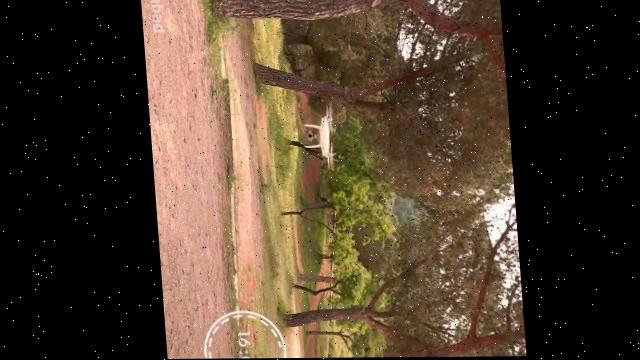drone: (300, 103, 337, 173)
